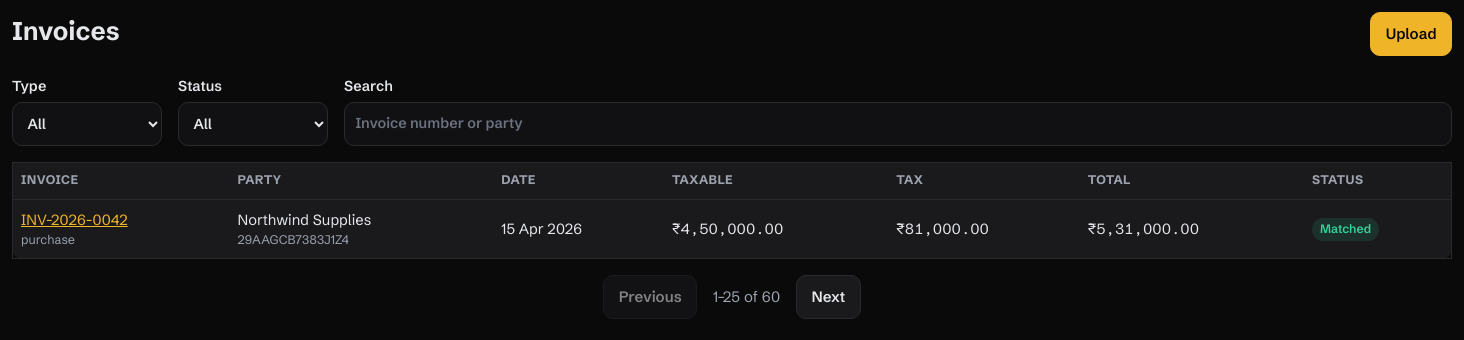
Scenario: InvoicesPage › sorting › returns to page one when the sort changes
The width and height of the screenshot is (1464, 340).
Check: the link "INV-2026-0042" is shown, box [21, 211, 128, 229]
Click the button "Next" at (828, 297), box [796, 275, 861, 319]
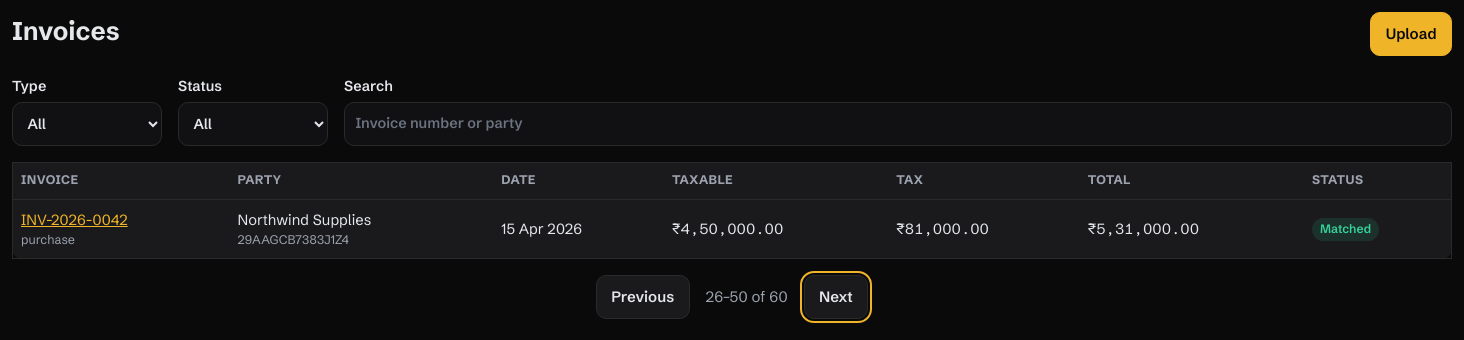
Check: the text "26–50 of 60" is shown, box [706, 286, 788, 309]
Click the button "Total" at (1109, 181), box [1088, 171, 1131, 190]
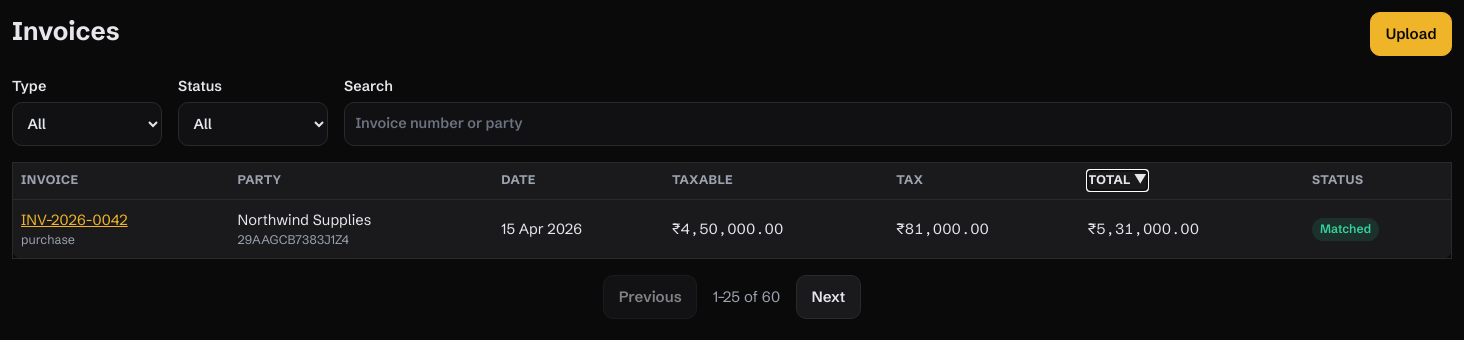
Check: the text "1–25 of 60" is shown, box [713, 286, 780, 309]
